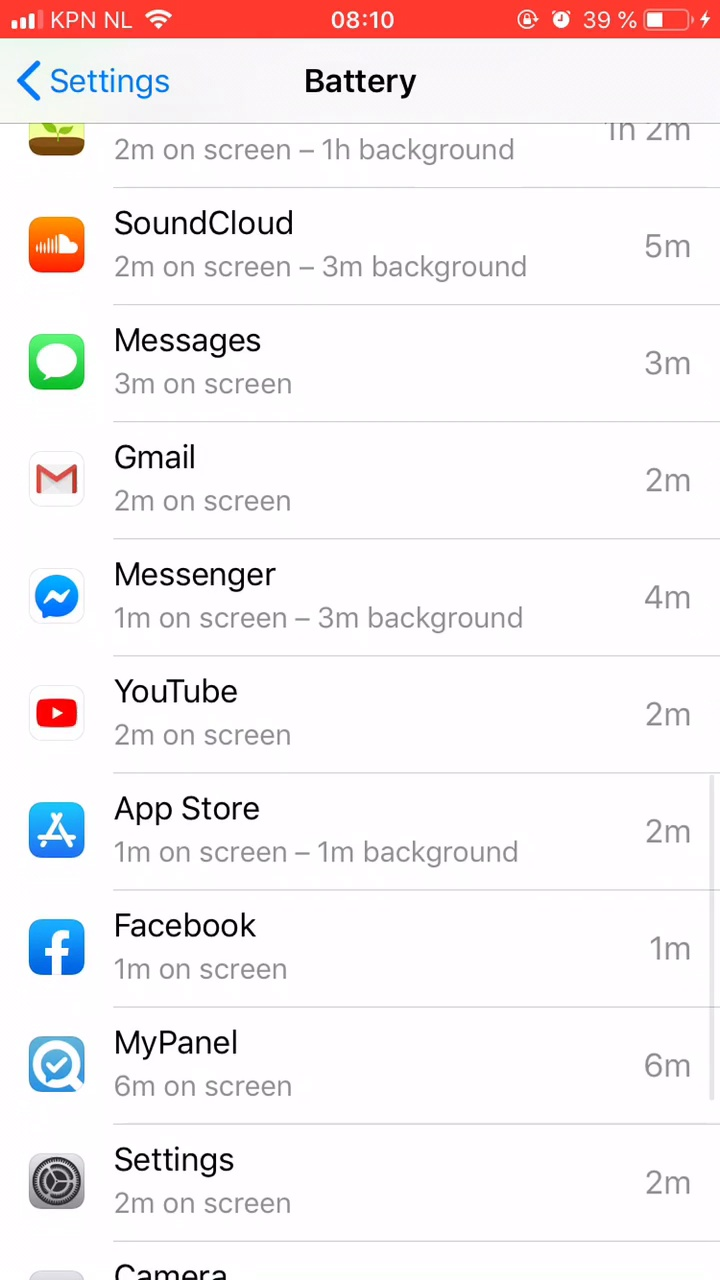app: (25, 192, 709, 285), (22, 309, 706, 402), (28, 426, 712, 519), (14, 544, 698, 637), (16, 665, 700, 758), (19, 789, 703, 882), (24, 899, 708, 992), (22, 1020, 706, 1113), (25, 1135, 709, 1228)
